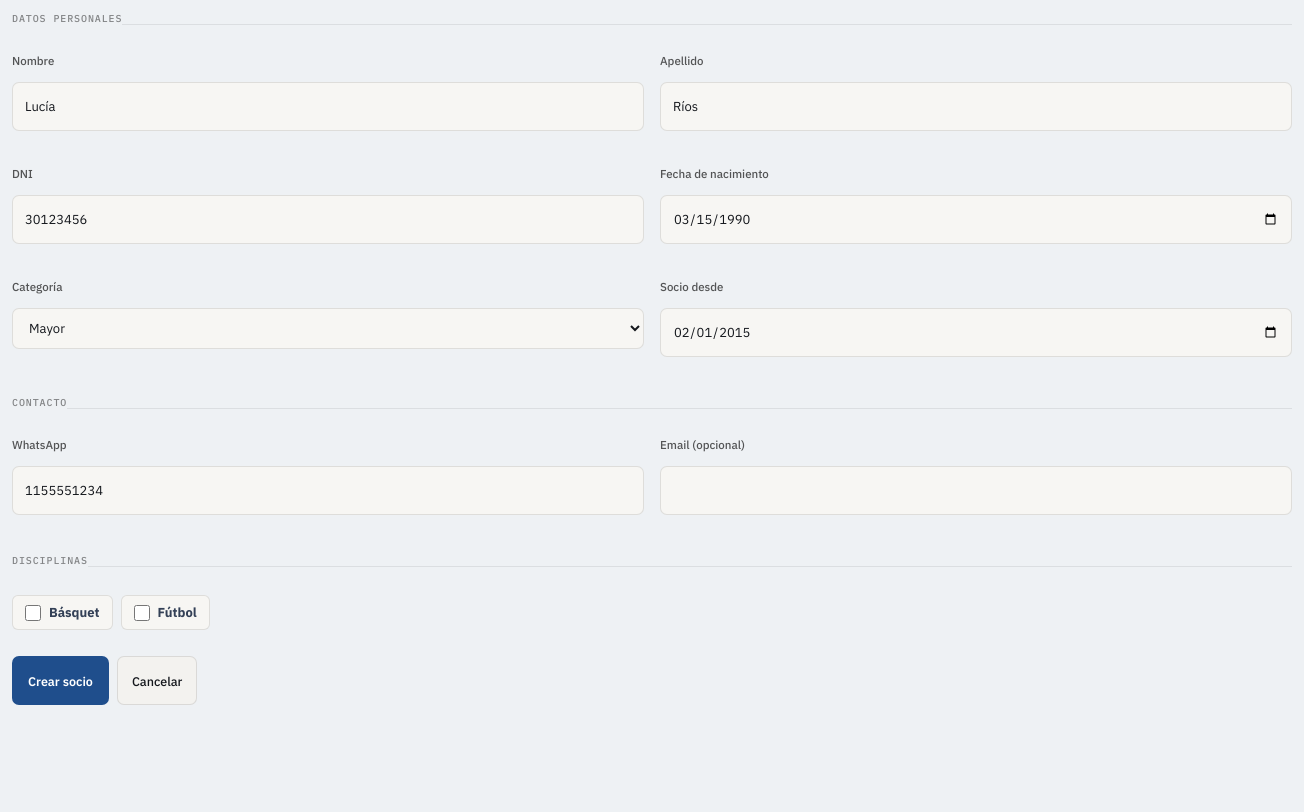
MemberForm › disciplines › shows the required error on the field, focuses it and clears it on choosing
The image size is (1304, 812).
Click the button "Crear socio". click: (60, 680)
box: 12,656 -> 109,705
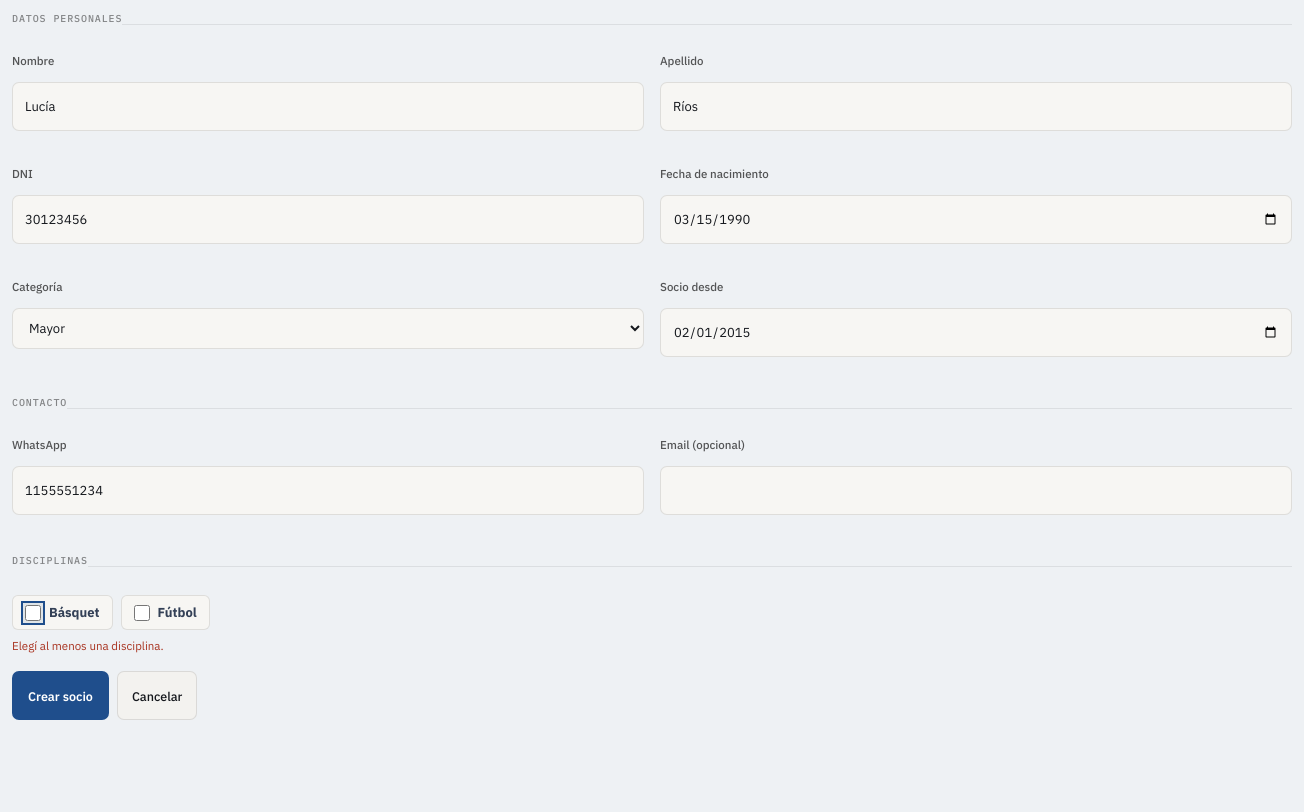
Click the checkbox labelled "Básquet". click: (33, 612)
box: 25,604 -> 41,620
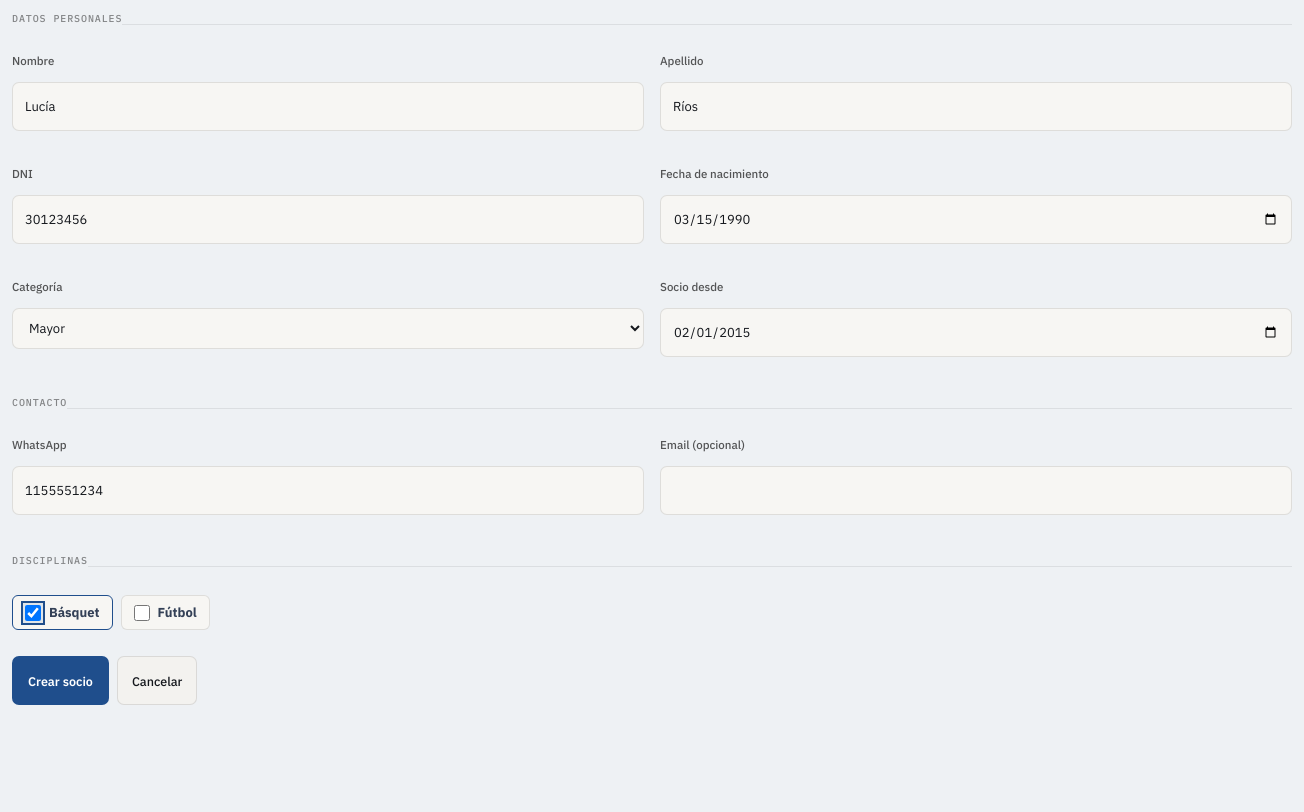
Expected: the text "Elegí al menos una disciplina." is gone
